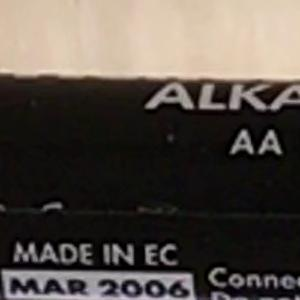ALK: (136, 74, 235, 119)
